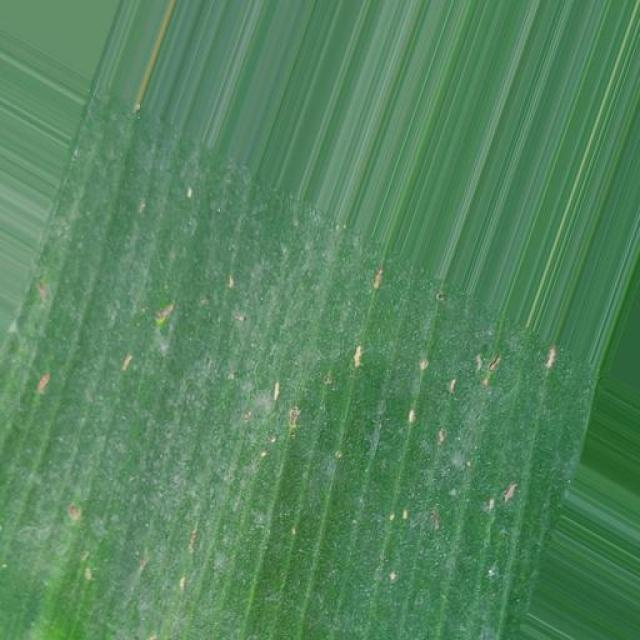Black_rot: (14, 275, 617, 619)
